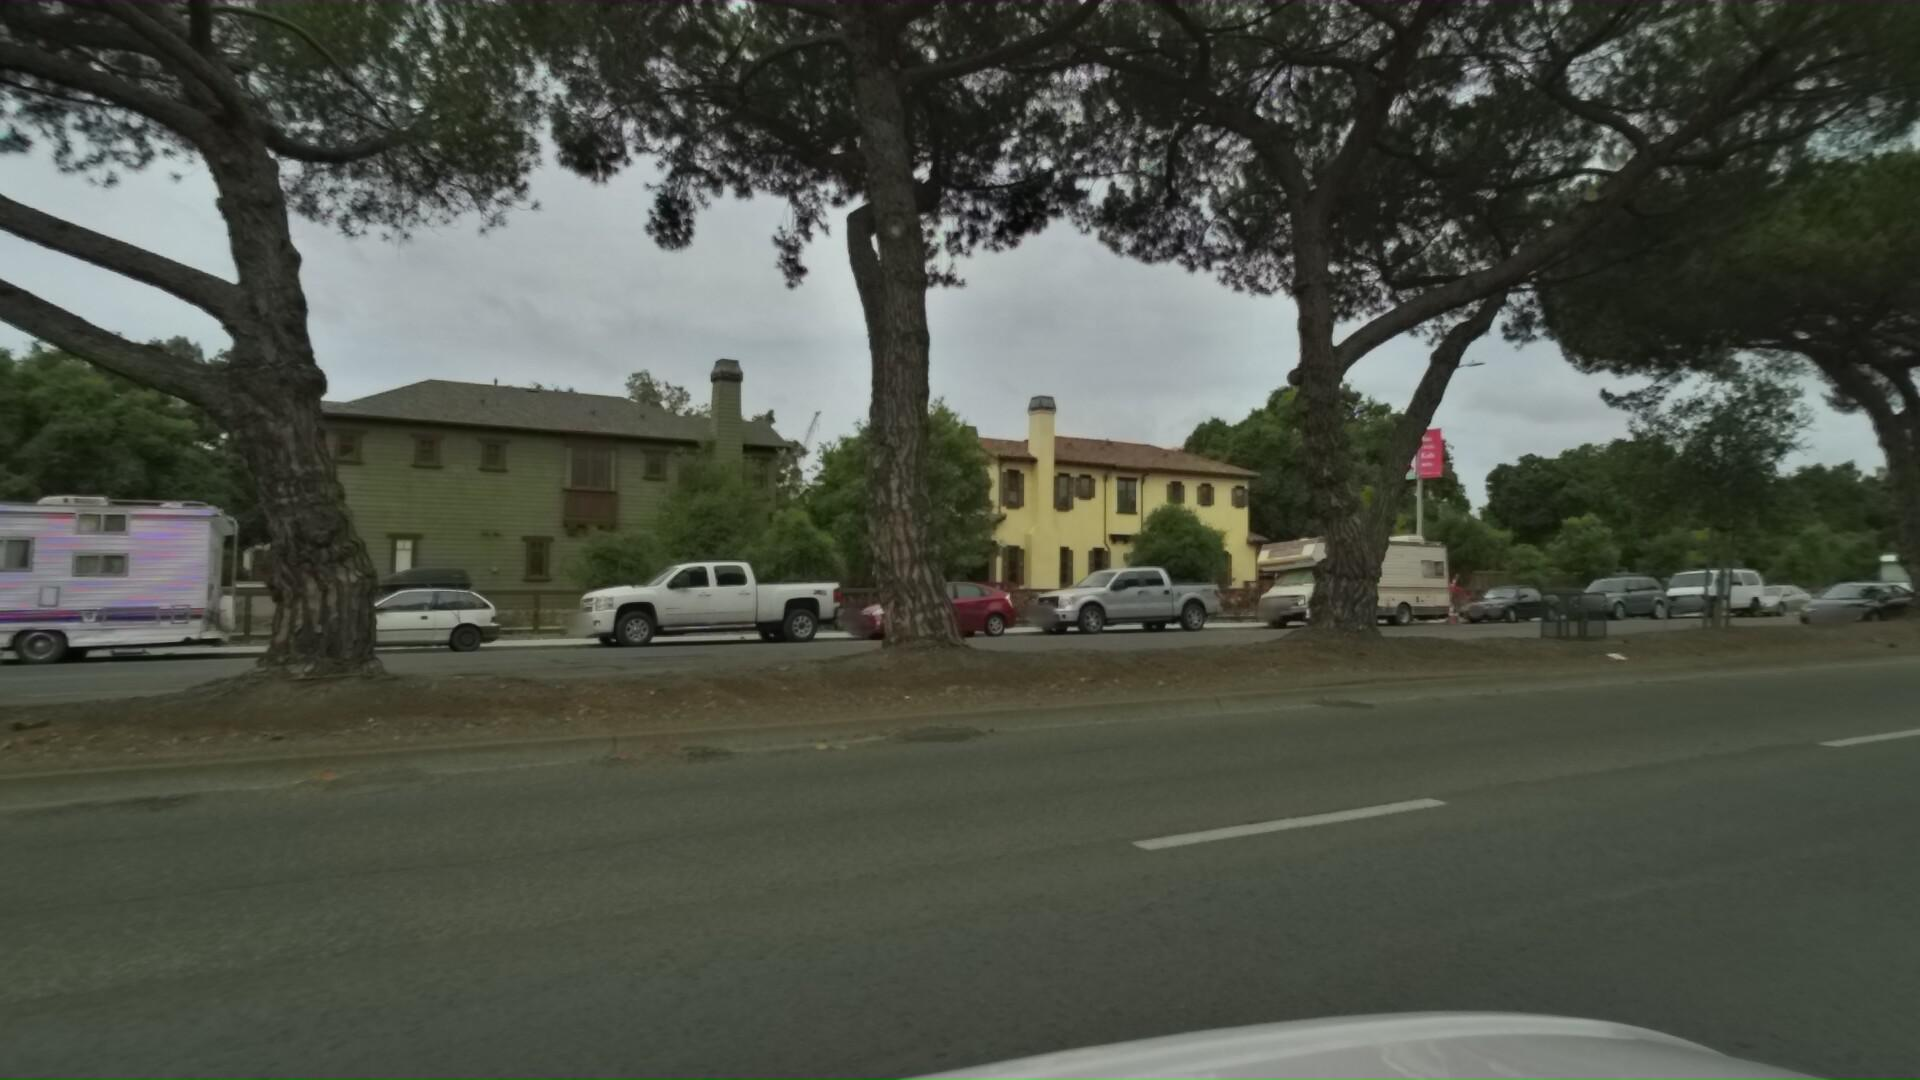car: (537, 551, 837, 651), (248, 560, 483, 659), (994, 560, 1213, 640), (818, 575, 1010, 644), (1758, 580, 1905, 637), (1633, 560, 1764, 618), (1540, 570, 1665, 621), (1437, 579, 1555, 625), (1712, 580, 1807, 615), (1898, 574, 1920, 613)
other_vehicle: (0, 475, 216, 683), (1228, 524, 1472, 630), (1850, 534, 1920, 612)
